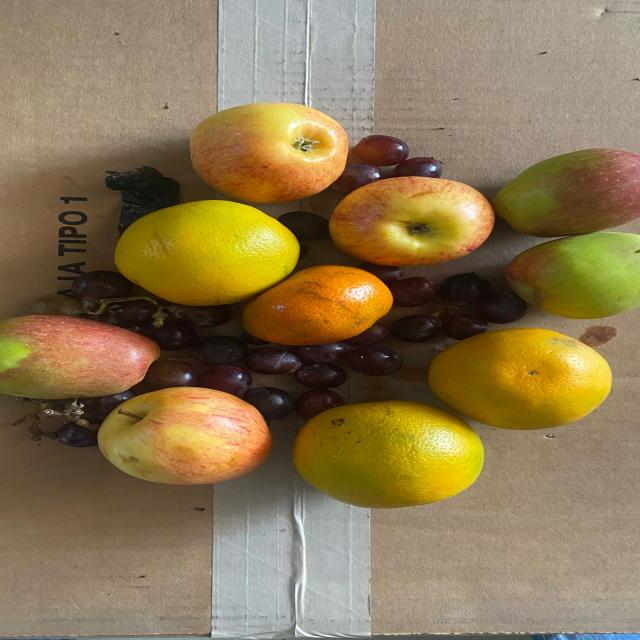bolsa_negra: (104, 170, 185, 229)
